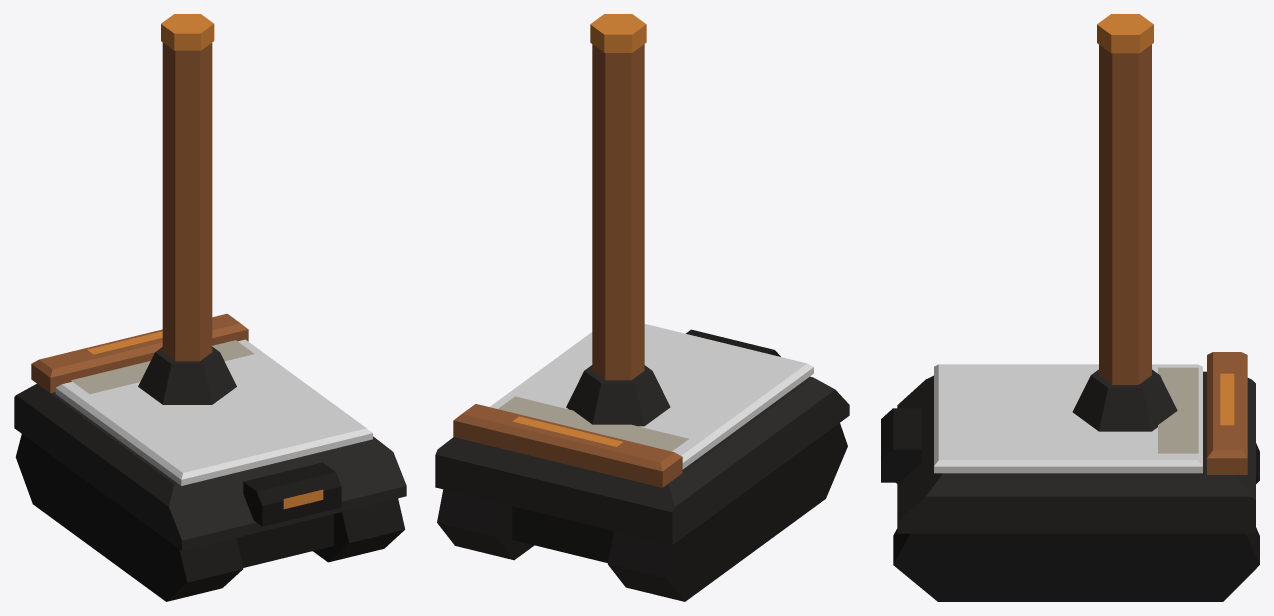
The model's file is lnd_t1_scout.d8436063.raw.glb.
3 views of the same model, side by side, from view 1: azimuth 30°, elevation 25°; view 2: azimuth 150°, elevation 25°; view 3: azimuth 270°, elevation 25° (orthographic). The views are drawn at different scales.
Parts seen in each view (by area): view 1: lod0; view 2: lod0; view 3: lod0.
Part boxes in pixels (x1,y1,x2,y2): lod0: [14, 14, 406, 601]; lod0: [435, 14, 849, 601]; lod0: [881, 14, 1259, 601].
Size of what is drawn, in the model's own units: 0.68 by 1.41 by 0.937.
